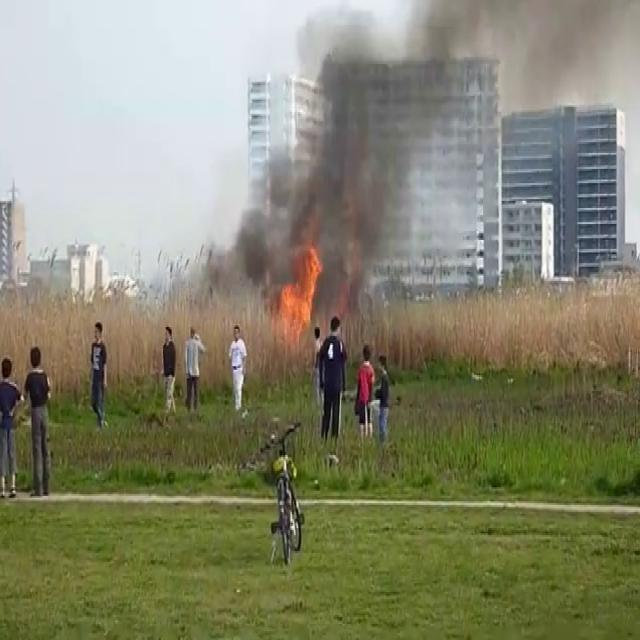Fire: (274, 232, 328, 346)
Smoke: (211, 0, 532, 300)
